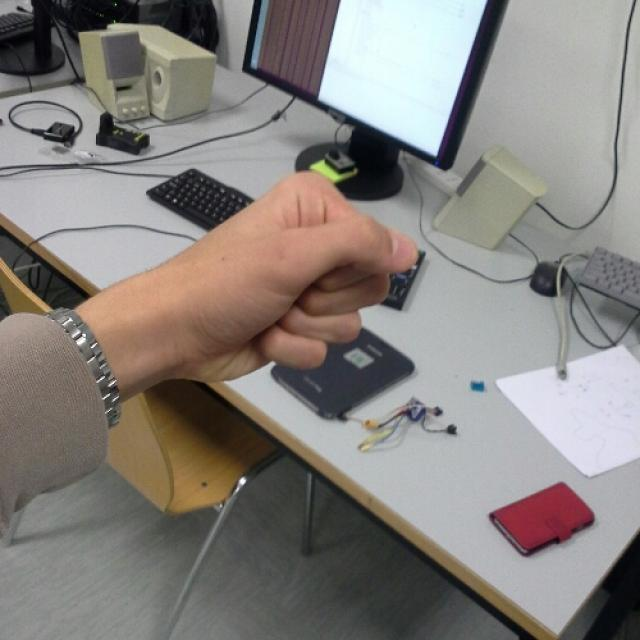rock: (205, 171, 420, 384)
